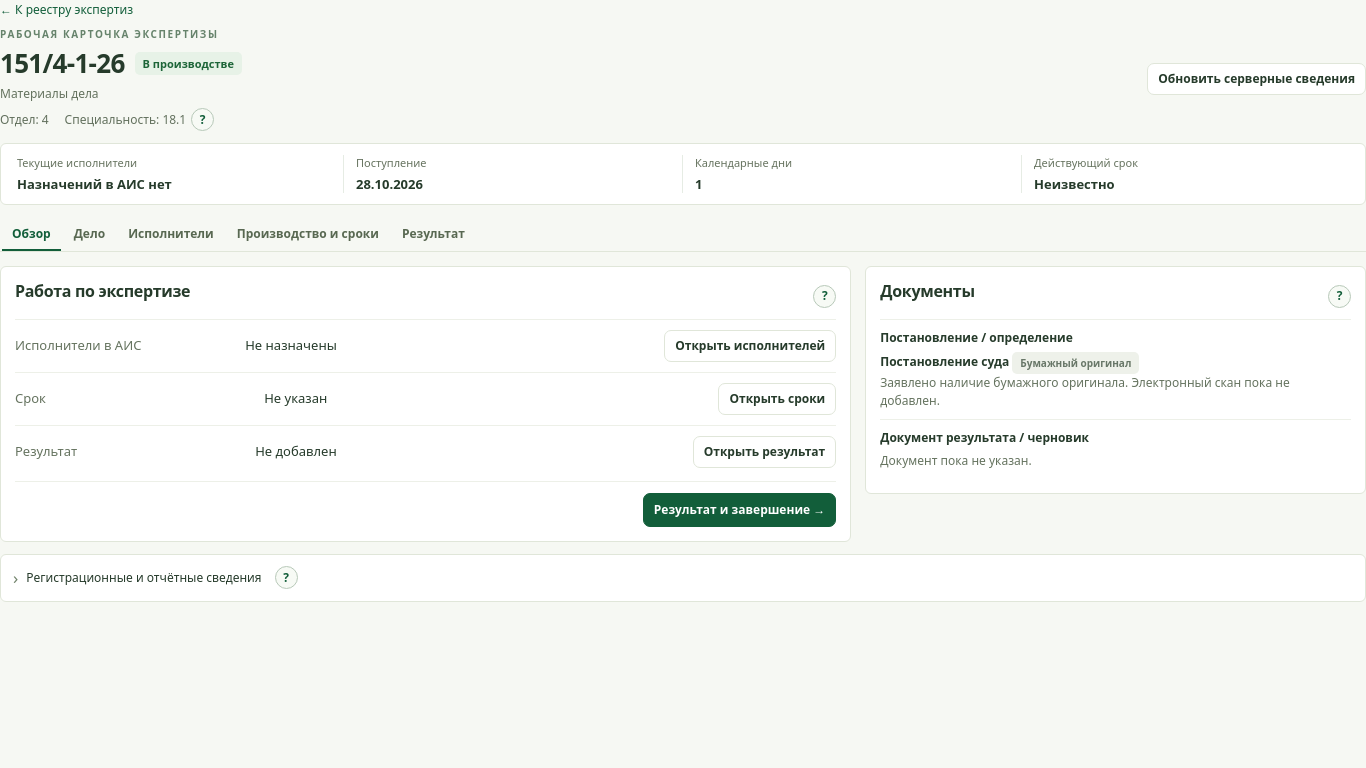
Test case: persisted work card › does not let a late detail reload overwrite a confirmed assignment
Click the tab "Исполнители": (171, 235) [118,219,224,251]
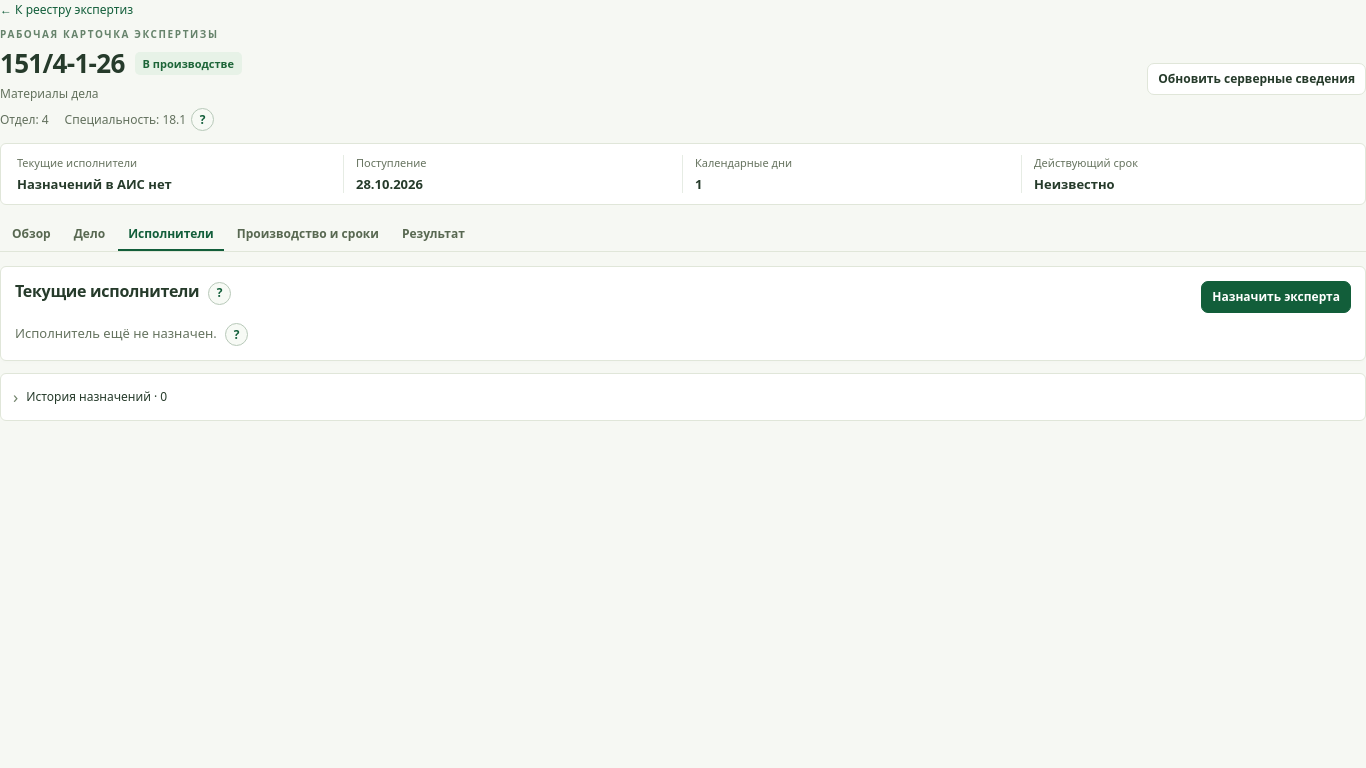
Click the button "Назначить эксперта": (1276, 297) [1201,281,1351,313]
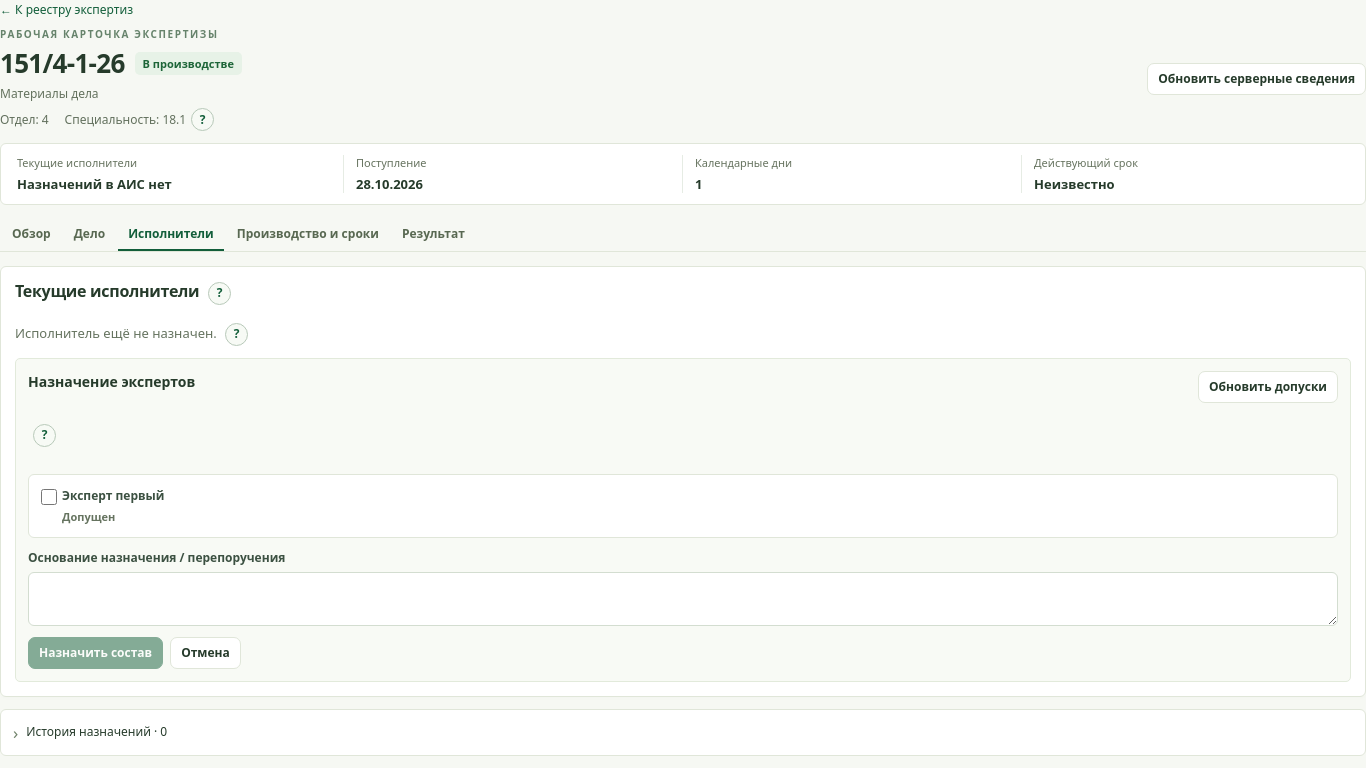
Click the checkbox labelled "Эксперт первый Допущен": (49, 496) [41,488,57,504]
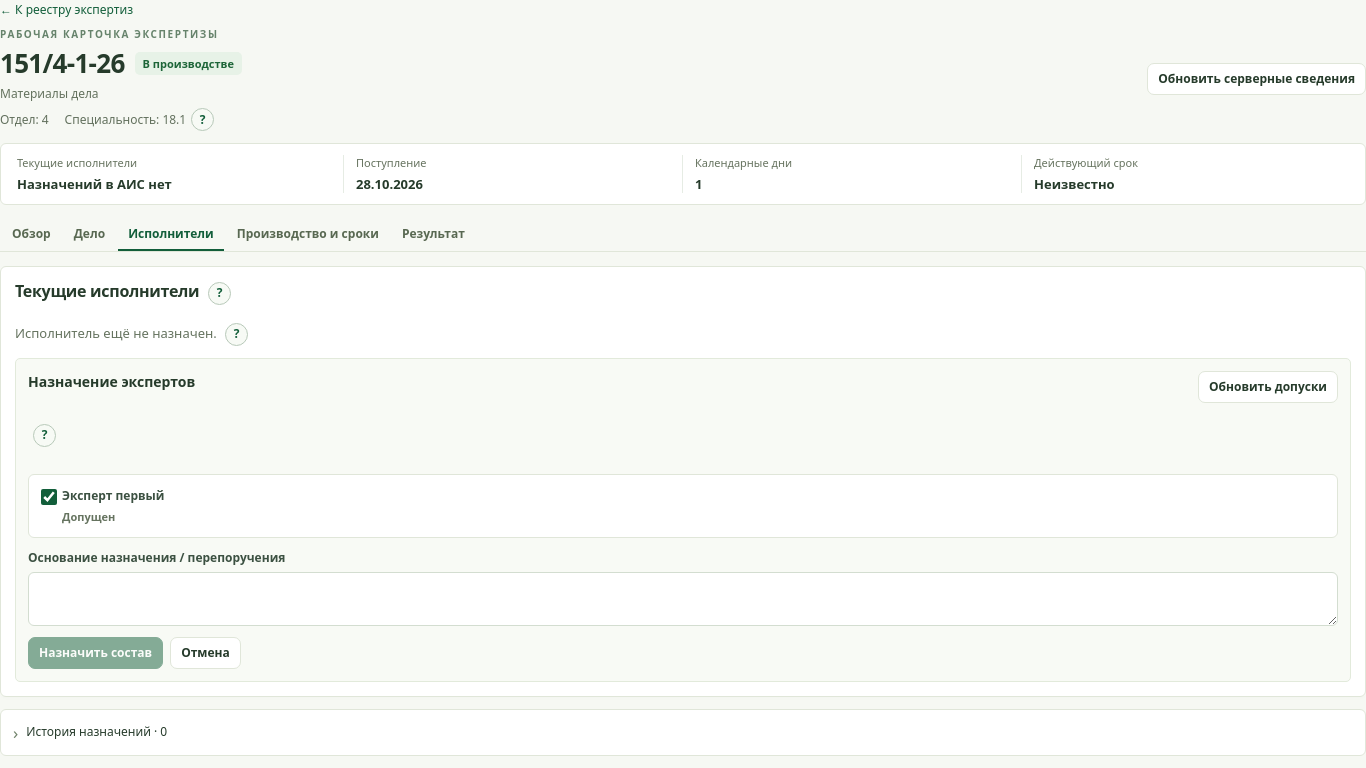
In the text box named "assignment_reason": (683, 599) [28,572,1338,626], type "Резолюция"
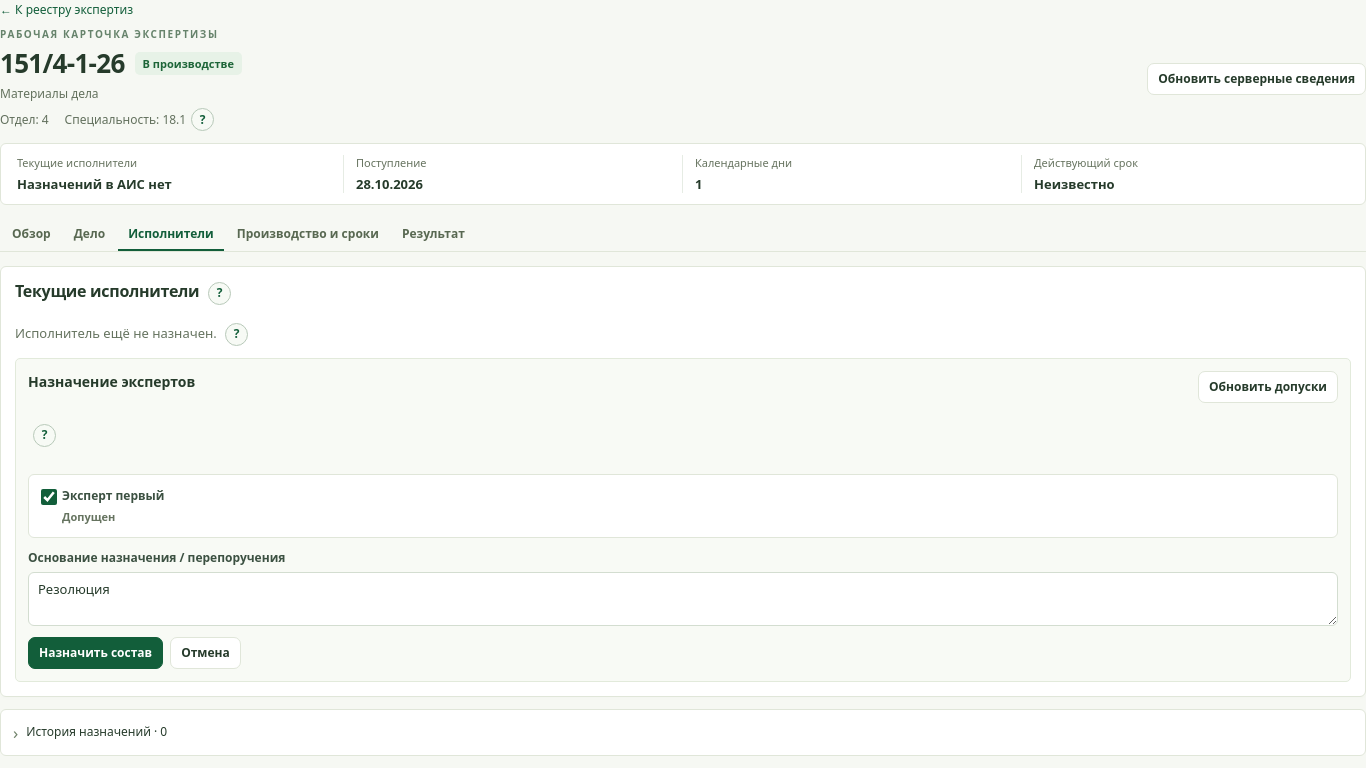
Click the button "Обновить серверные сведения": (1257, 79) [1147,63,1365,95]
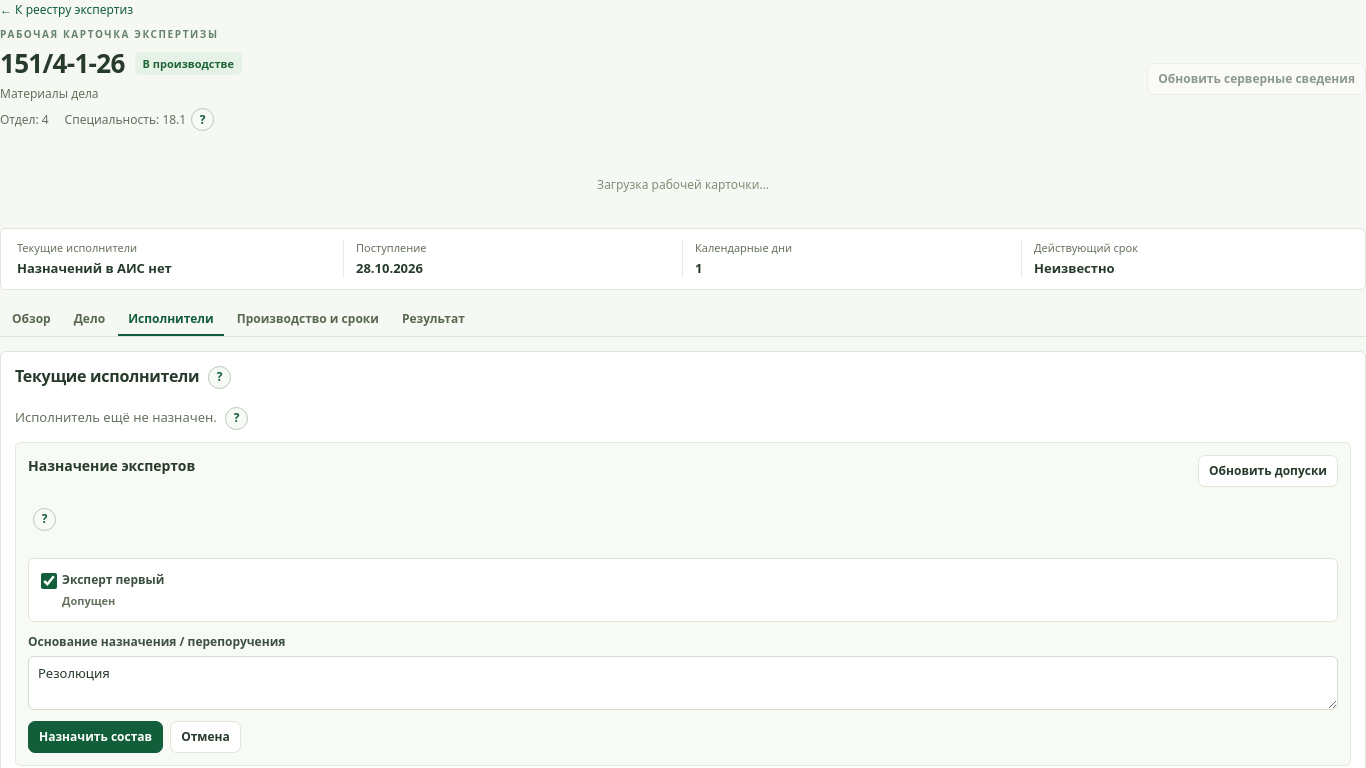
Submit the form, box [15,442,1351,766]
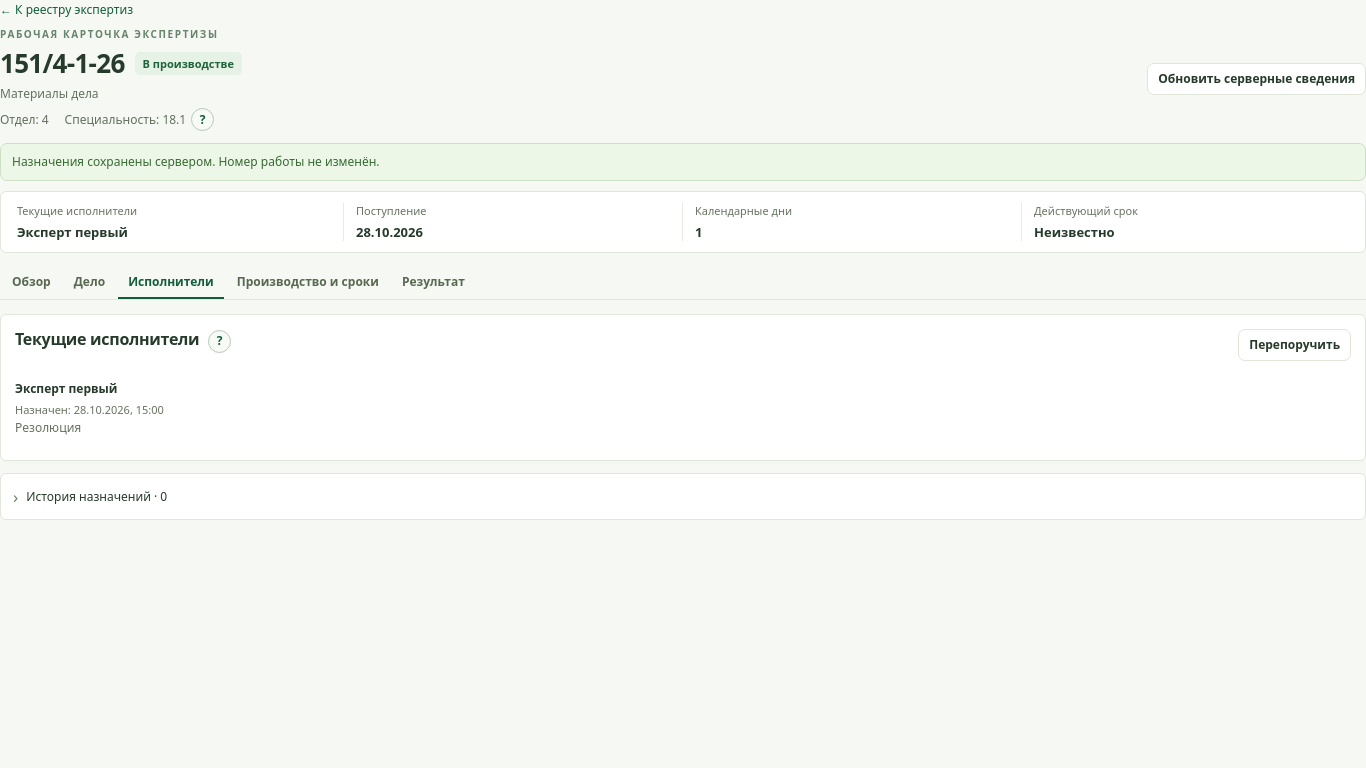
Expected: the element showing "Эксперт первый Назначен: 28.10.2026, 15:00 Резолюция" is shown, [15,380,164,436]
